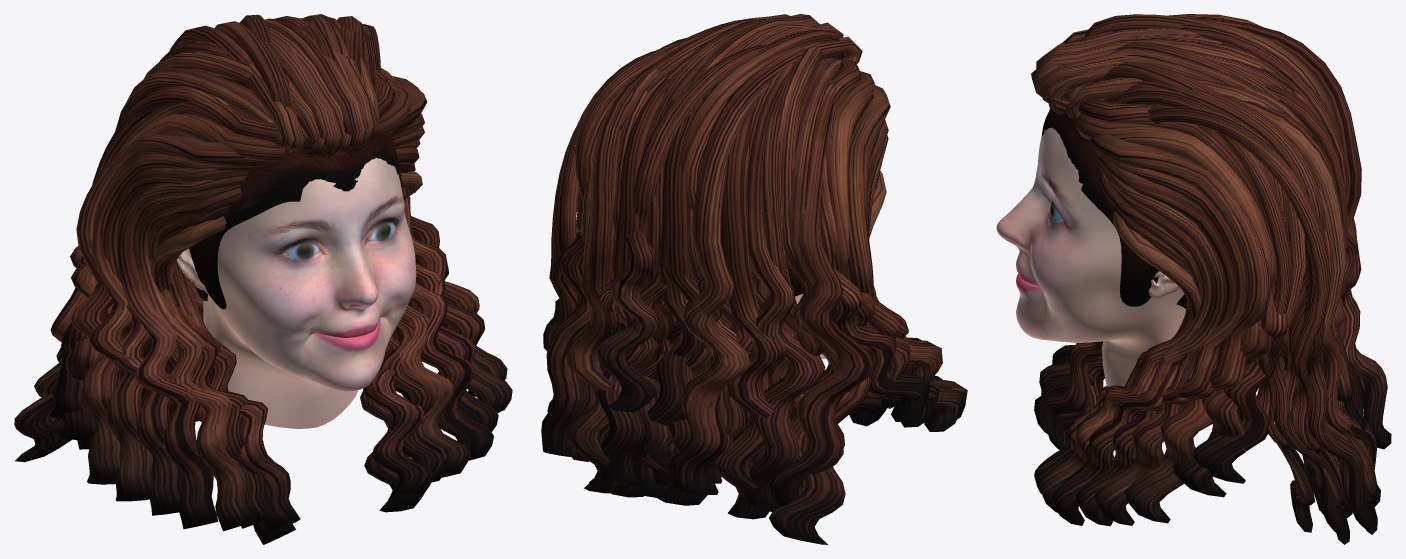
File: closed_smile.obj
The picture shows the model from 3 angles, left to right: view 1: azimuth 30°, elevation 25°; view 2: azimuth 150°, elevation 25°; view 3: azimuth 270°, elevation 25°; orthographic projection. The views are drawn at different scales.
Parts seen in each view (by area): view 1: closed_smile; view 2: closed_smile; view 3: closed_smile.
Boxes of the visible parts, left/top/right/bottom form: closed_smile: left=14, top=14, right=512, bottom=544; closed_smile: left=541, top=14, right=967, bottom=544; closed_smile: left=996, top=14, right=1391, bottom=544.
Size of the model in its own units: 365 by 387 by 298.
